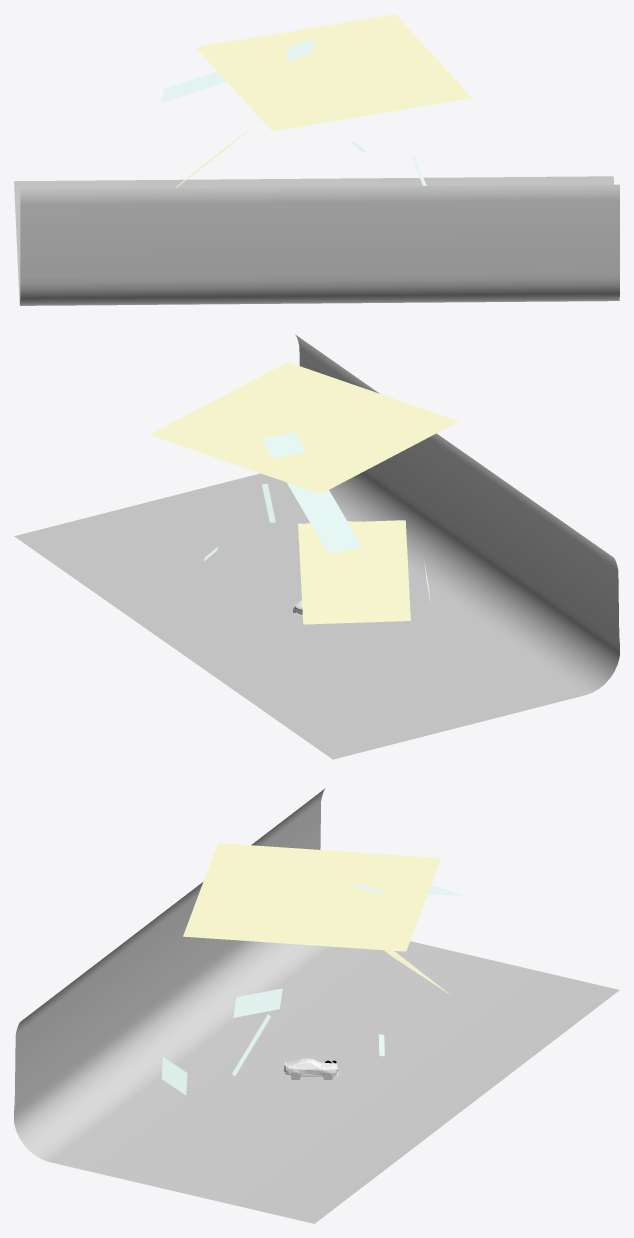
The model's file is mustang.glb.
The picture shows the model from 3 angles, top to bottom: view 1: azimuth 30°, elevation 25°; view 2: azimuth 150°, elevation 25°; view 3: azimuth 270°, elevation 25°; orthographic projection. The views are drawn at different scales.
Parts seen in each view (by area): view 1: Background Drape Cars, Light.001, Light.002; view 2: Background Drape Cars, Light.001, Light, Light.002; view 3: Background Drape Cars, Light.001, alights.000, Body, alights.014.
Boxes of the visible parts, left/top/right/bottom form: Background Drape Cars: left=14, top=176, right=619, bottom=305; Light.001: left=195, top=14, right=471, bottom=131; Light.002: left=161, top=38, right=314, bottom=103; Background Drape Cars: left=14, top=334, right=619, bottom=759; Light.001: left=149, top=362, right=458, bottom=493; Light: left=298, top=520, right=410, bottom=624; Light.002: left=261, top=432, right=361, bottom=554; Background Drape Cars: left=14, top=788, right=619, bottom=1223; Light.001: left=183, top=843, right=440, bottom=951; alights.000: left=233, top=988, right=282, bottom=1017; Body: left=284, top=1058, right=338, bottom=1076; alights.014: left=161, top=1057, right=187, bottom=1095.
Bounding box in the file's own units: 127 × 37.69 × 107.
